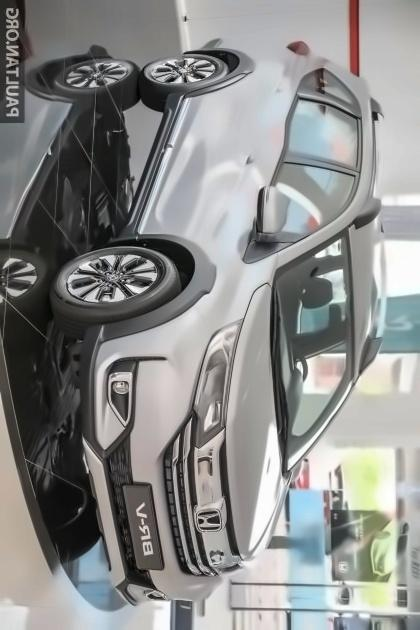Car hood: (225, 273, 291, 569)
Driver-s door - -F-R-: (136, 156, 369, 270)
Fender - -F-R-: (115, 219, 282, 324)
Fender - -R-R-: (227, 47, 347, 90)
Front bumper: (70, 325, 196, 597)
Headlight - -R-: (191, 315, 250, 453)
Passenger-s door - -R-R-: (159, 83, 372, 159)
Rear bumper: (177, 27, 249, 62)
Rear light - -R-: (272, 33, 320, 60)
Side bumper - -R-: (107, 80, 190, 250)
Side mirror - -R-: (251, 178, 292, 256)
